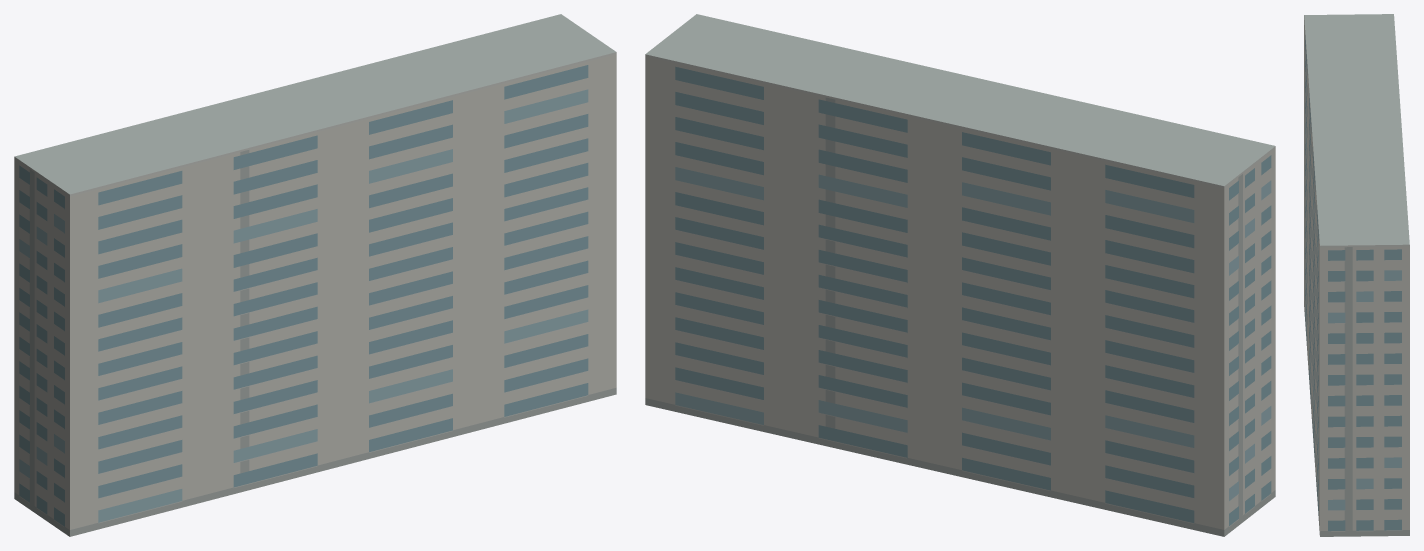
The model's file is residential-3640979f-f303-41c8-8c3d-3d57169e9d22.glb.
3 views of the same model, side by side, from view 1: azimuth 30°, elevation 25°; view 2: azimuth 150°, elevation 25°; view 3: azimuth 270°, elevation 25° (orthographic). The views are drawn at different scales.
Visible parts, largest first — view 1: residential-3640979f-f303-41c8-8c3d-3d57169e9d22.tmp; view 2: residential-3640979f-f303-41c8-8c3d-3d57169e9d22.tmp; view 3: residential-3640979f-f303-41c8-8c3d-3d57169e9d22.tmp.
Part boxes in pixels (left/top/right/bottom): residential-3640979f-f303-41c8-8c3d-3d57169e9d22.tmp: left=14, top=14, right=616, bottom=536; residential-3640979f-f303-41c8-8c3d-3d57169e9d22.tmp: left=645, top=14, right=1275, bottom=536; residential-3640979f-f303-41c8-8c3d-3d57169e9d22.tmp: left=1304, top=14, right=1409, bottom=536.
Bounding box in the file's own units: 72.92 × 42.7 × 14.06.
